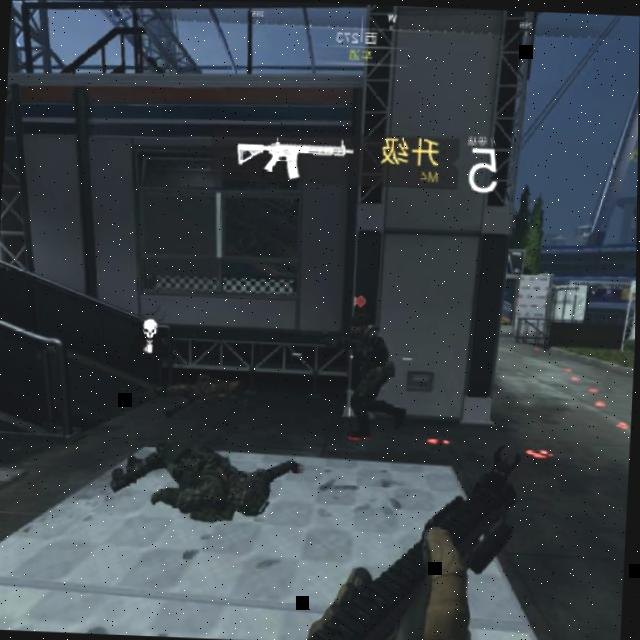MW2_body: (330, 293, 413, 439)
